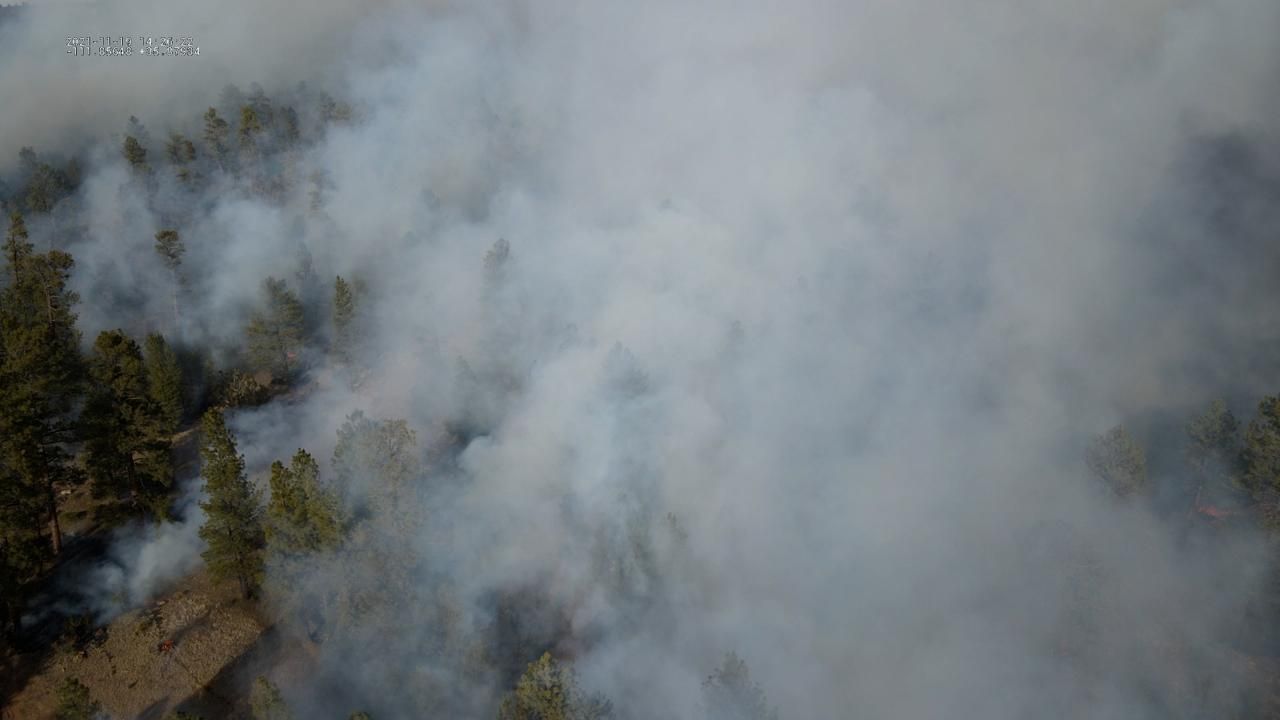fire: (1195, 504, 1230, 518), (159, 639, 176, 652), (285, 350, 298, 358)
smoke: (0, 0, 1280, 720)
